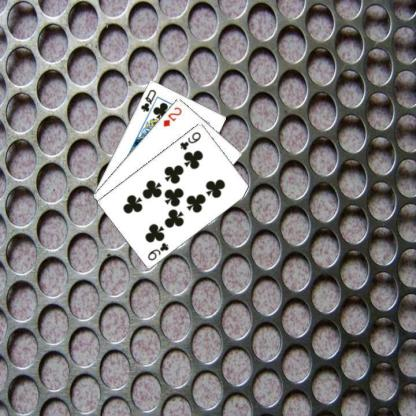2D: (161, 104, 183, 128)
9C: (145, 240, 170, 262), (178, 129, 202, 151)
QC: (138, 87, 157, 113)
